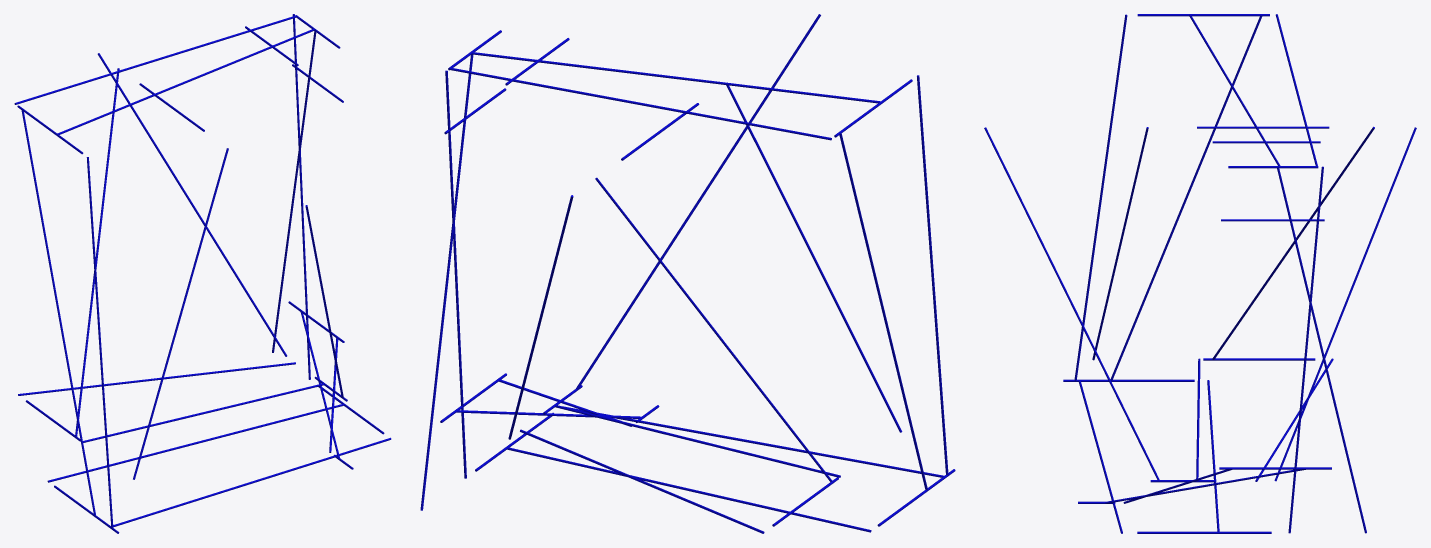
The model's file is corrected_3d_strokes.glb.
3 renders of one model, left to right at view 1: azimuth 30°, elevation 25°; view 2: azimuth 150°, elevation 25°; view 3: azimuth 270°, elevation 25°, orthographic. The views are drawn at different scales.
Parts seen in each view (by area): view 1: world; view 2: world; view 3: world.
Boxes of the visible parts, box(x1,y1,x2,y2) form: world: box(14, 14, 391, 533); world: box(420, 14, 955, 533); world: box(984, 14, 1416, 533).
Bounding box in the file's own units: 6.28 × 7.04 × 7.51.
